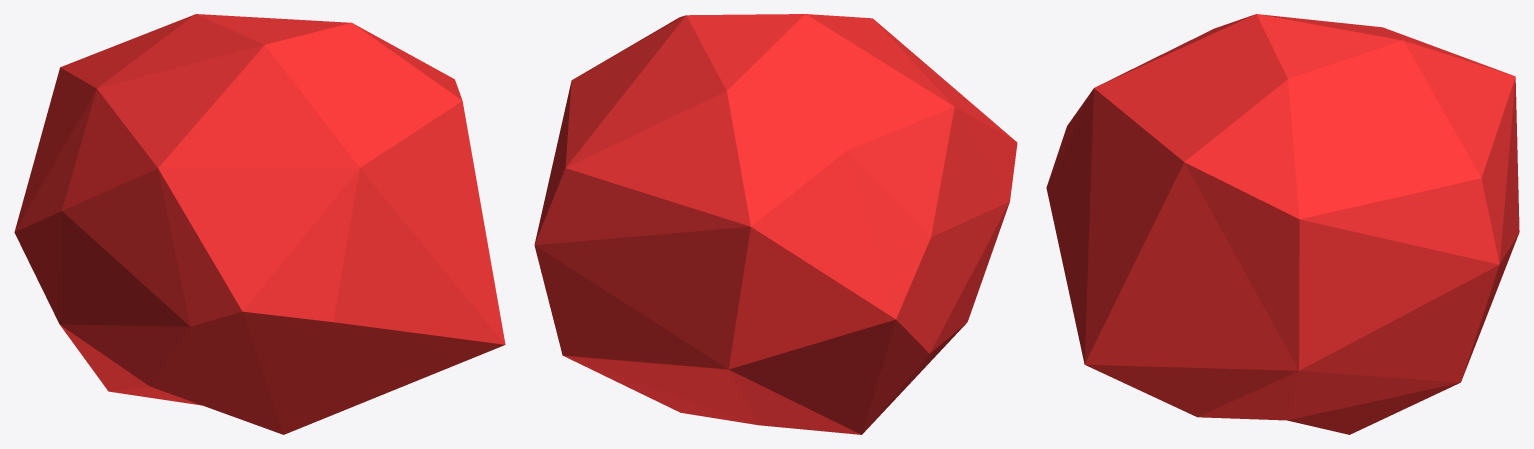
File: Leaves2.fbx
3 views of the same model, side by side, from view 1: azimuth 30°, elevation 25°; view 2: azimuth 150°, elevation 25°; view 3: azimuth 270°, elevation 25° (orthographic).
Visible parts, largest first — view 1: GeoSphere002; view 2: GeoSphere002; view 3: GeoSphere002.
Part boxes in pixels (x1,y1,x2,y2): GeoSphere002: (14, 14, 505, 434); GeoSphere002: (534, 14, 1017, 434); GeoSphere002: (1046, 14, 1519, 434).
Size of the model in its own units: 32.93 by 30.66 by 34.33.
